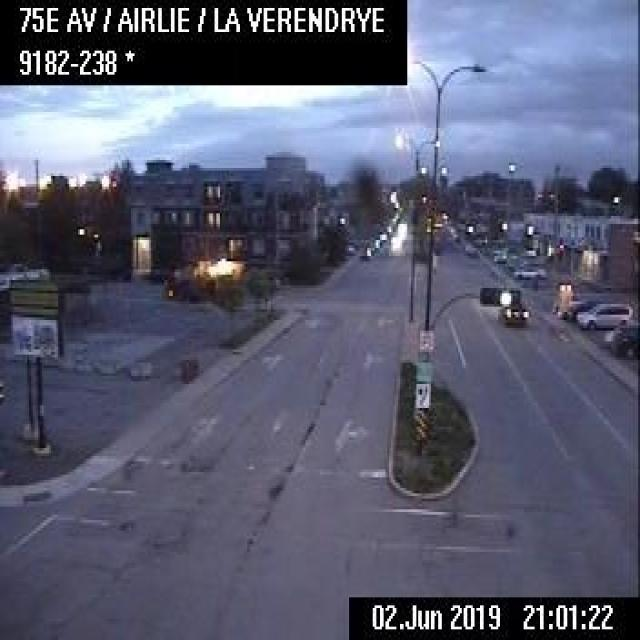vehicle: (576, 300, 630, 326), (610, 324, 637, 357), (500, 301, 529, 323), (513, 261, 546, 280), (556, 298, 582, 317), (359, 244, 373, 257), (492, 248, 504, 260), (467, 240, 477, 253)
